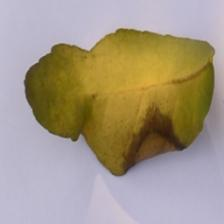black spot: (118, 104, 194, 179)
